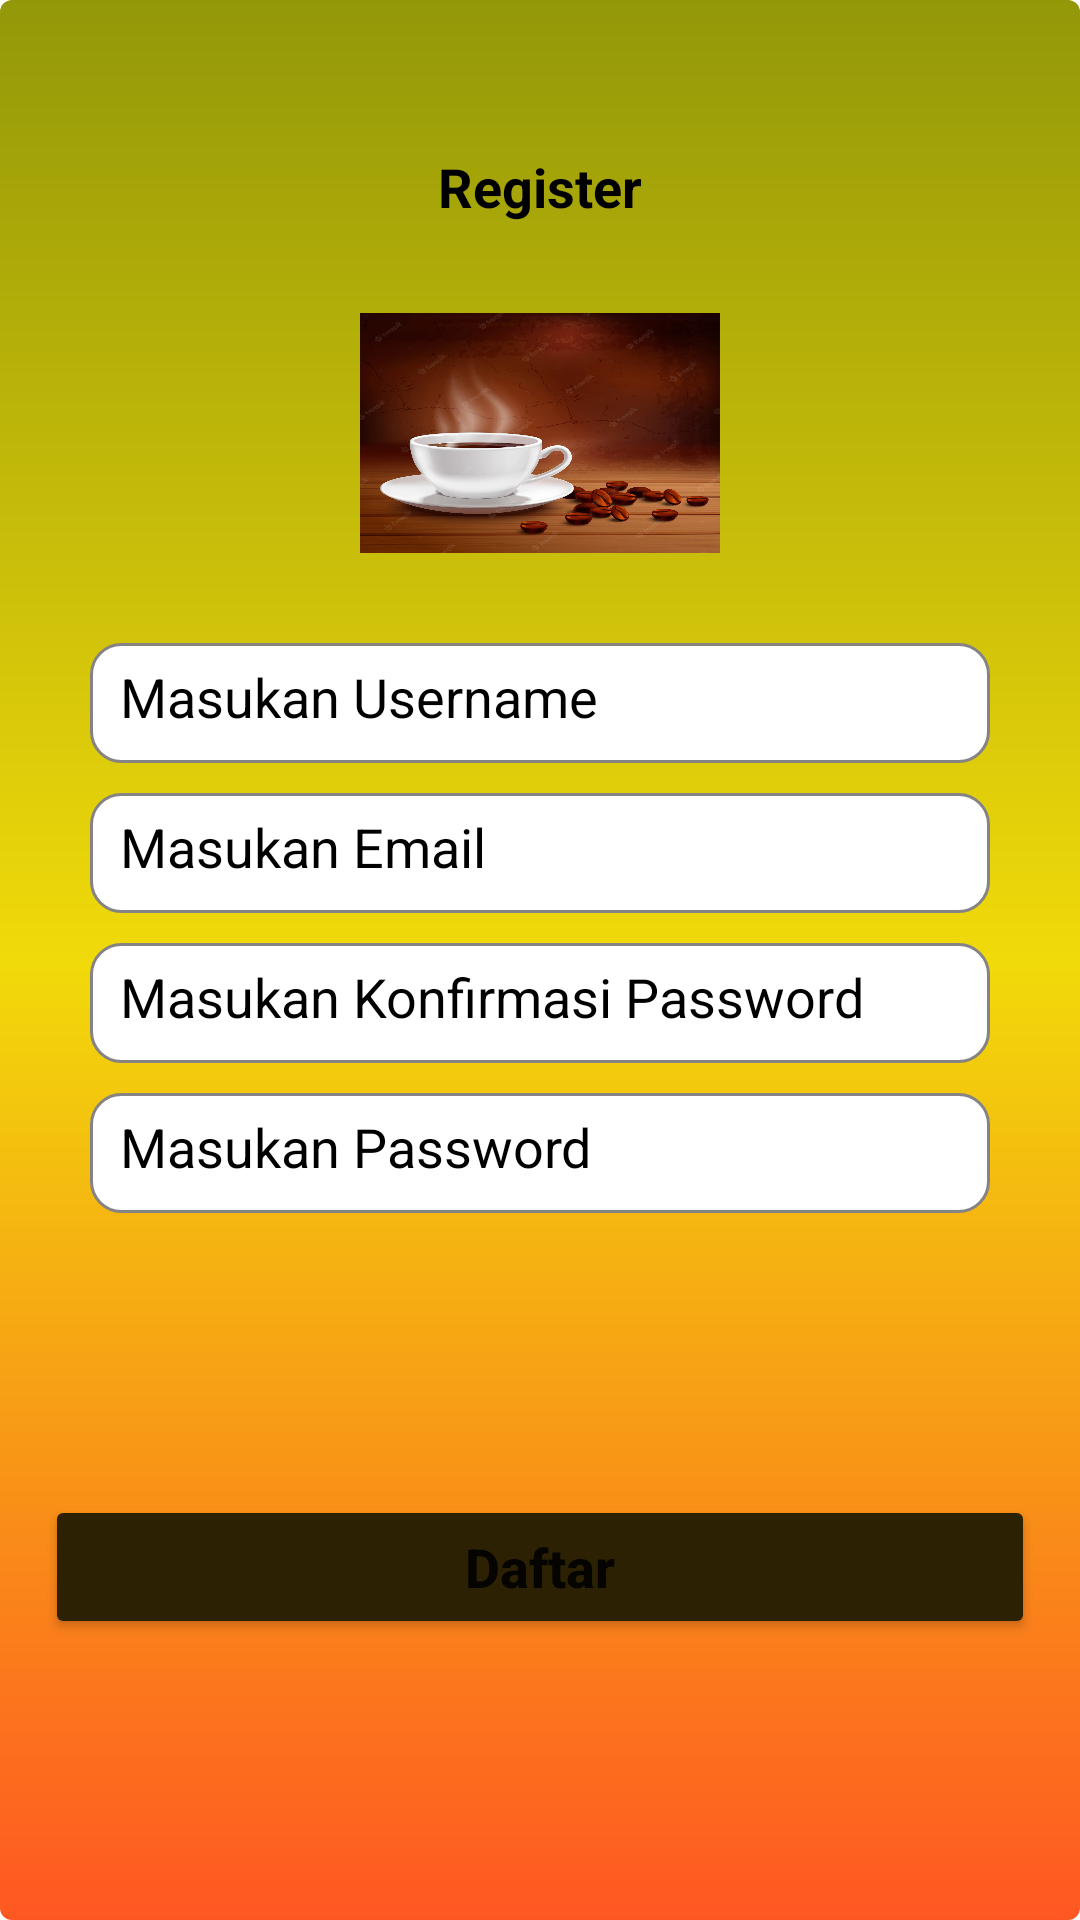

Where to tap for icons on this 1080*1920 app screen, as (x,y):
coffe: (540,433)
